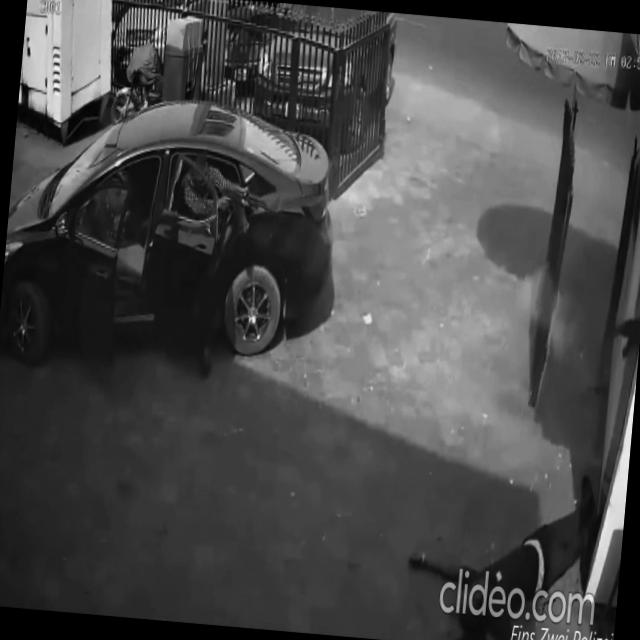gun: (210, 177, 280, 237), (602, 307, 640, 358)
person: (399, 454, 601, 640)
person with a gun: (164, 152, 282, 386)
